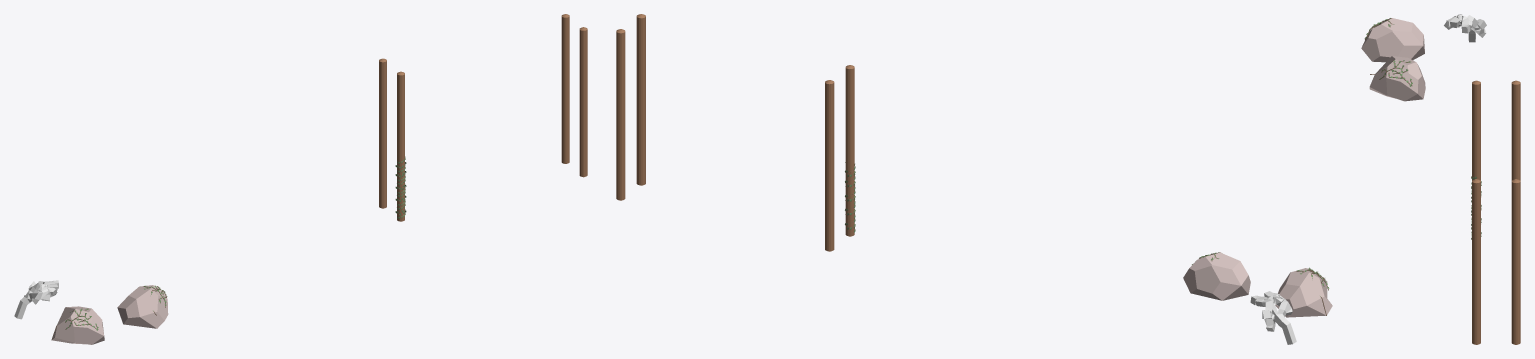
The model's file is Item_Vine.fbx.
3 renders of one model, left to right at view 1: azimuth 30°, elevation 25°; view 2: azimuth 150°, elevation 25°; view 3: azimuth 270°, elevation 25°, orthographic. The views are drawn at different scales.
Parts seen in each view (by area): view 1: Bridge_all, Vine2_Stone, Vine1_Stone, Cube; view 2: Bridge_all, Vine2_Stone, Vine1_Stone, Cube; view 3: Bridge_all, Vine1_Stone, Vine2_Stone, Cube, Vine2_Leaf.
Part boxes in pixels (bbox=[...]): Bridge_all: bbox=[379, 14, 587, 221]; Vine2_Stone: bbox=[117, 285, 168, 328]; Vine1_Stone: bbox=[52, 306, 104, 344]; Cube: bbox=[14, 280, 58, 319]; Bridge_all: bbox=[616, 14, 854, 251]; Vine2_Stone: bbox=[1183, 252, 1250, 300]; Vine1_Stone: bbox=[1275, 268, 1332, 317]; Cube: bbox=[1250, 291, 1296, 344]; Bridge_all: bbox=[1472, 80, 1520, 344]; Vine1_Stone: bbox=[1361, 18, 1424, 62]; Vine2_Stone: bbox=[1369, 56, 1425, 101]; Cube: bbox=[1444, 14, 1486, 42]; Vine2_Leaf: bbox=[1380, 60, 1412, 86].
Size of the model in its own units: 1195 by 5485 by 1383.
